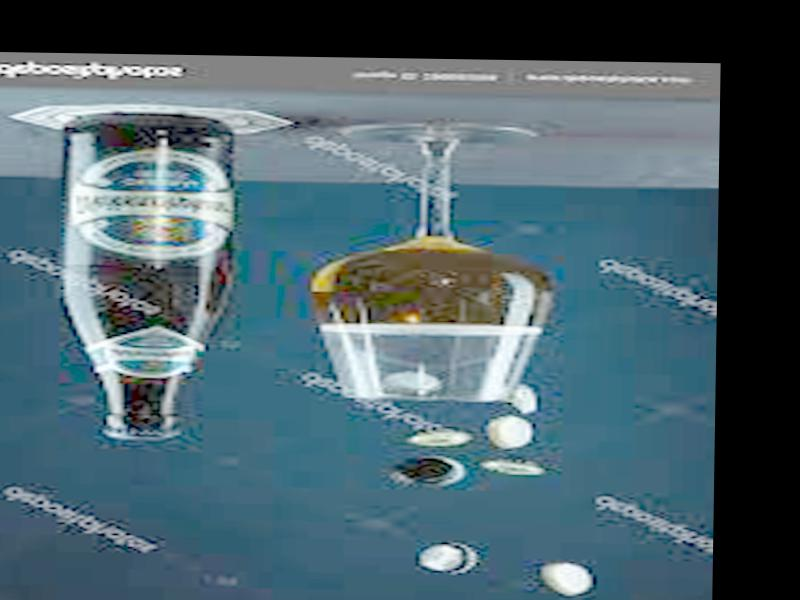Beer: (63, 115, 230, 437)
